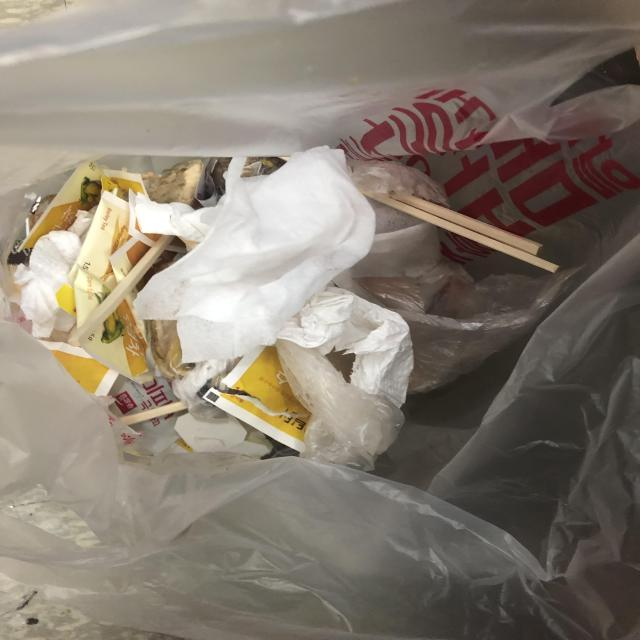litter: (100, 140, 407, 389)
